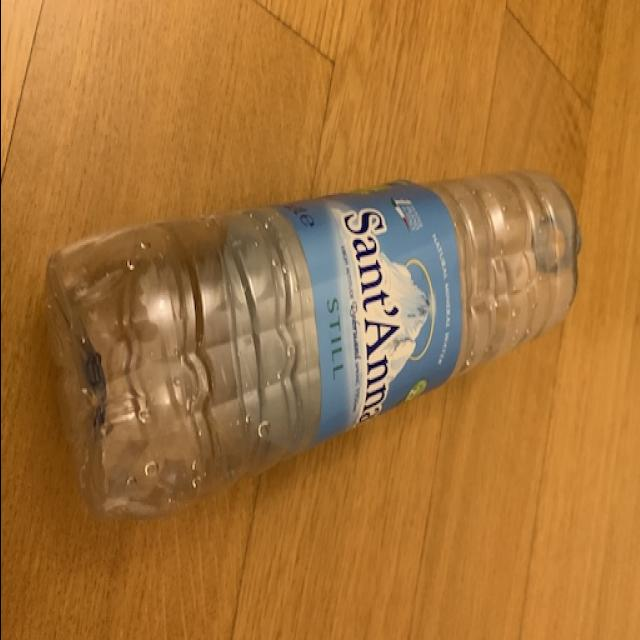PET: (28, 168, 590, 536)
